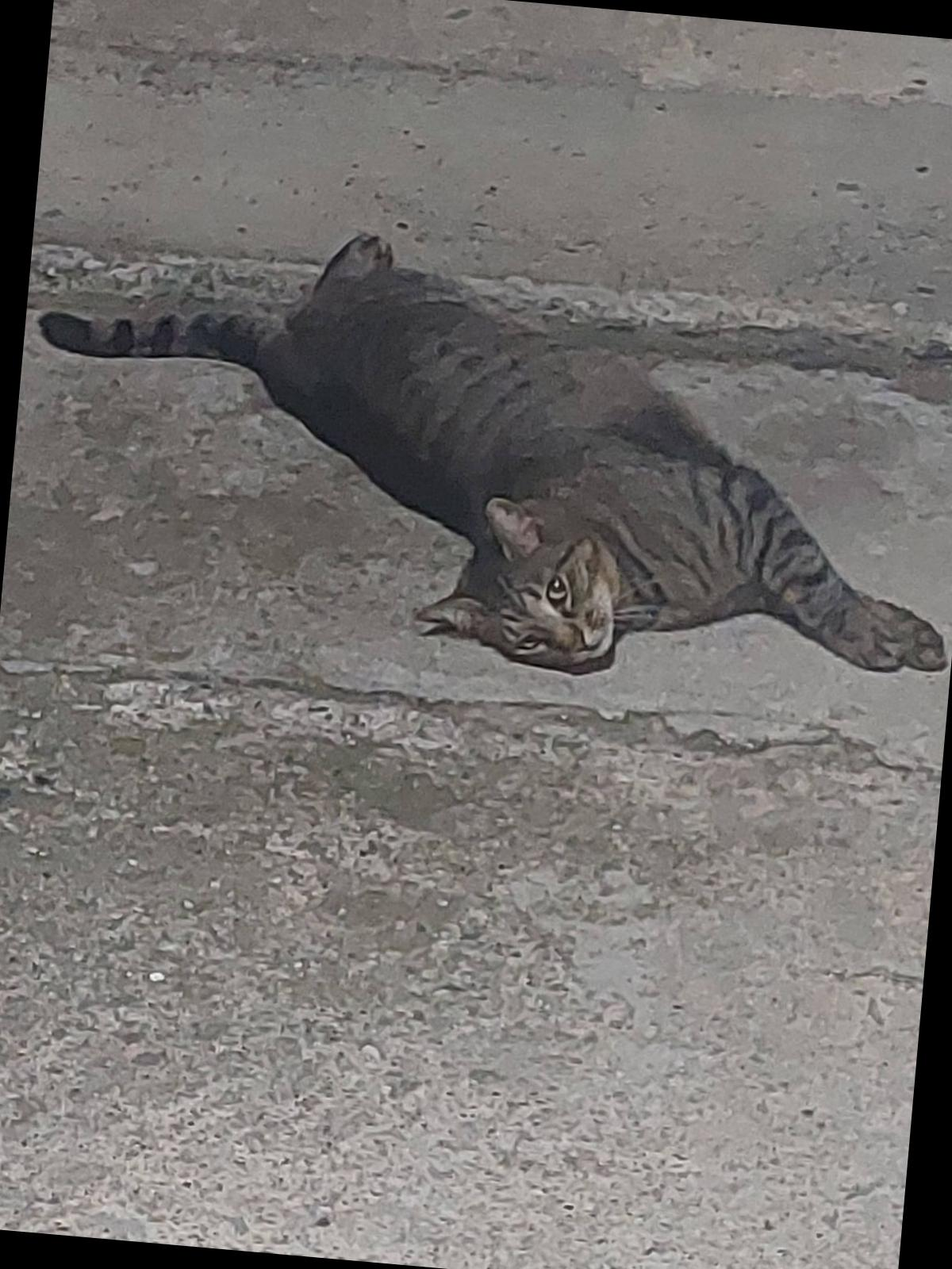macka: (10, 207, 952, 704)
